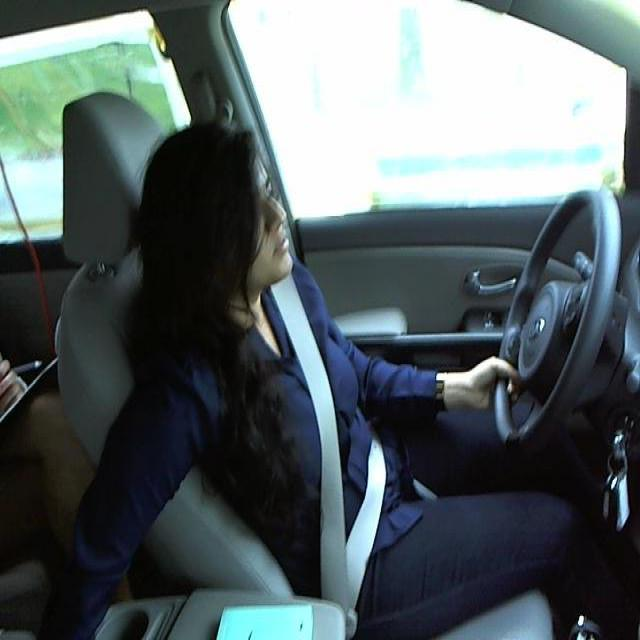seatbelt: (276, 300, 401, 599)
